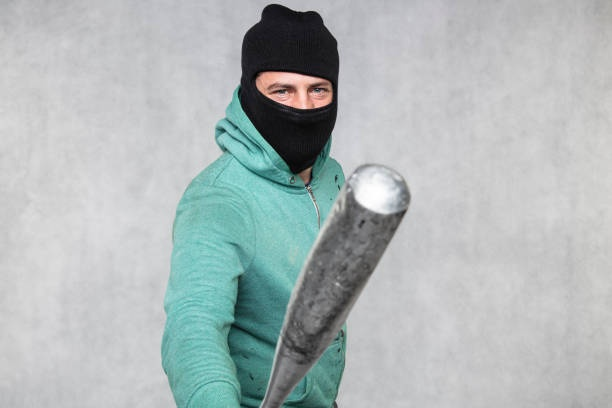bita: (252, 163, 406, 408)
